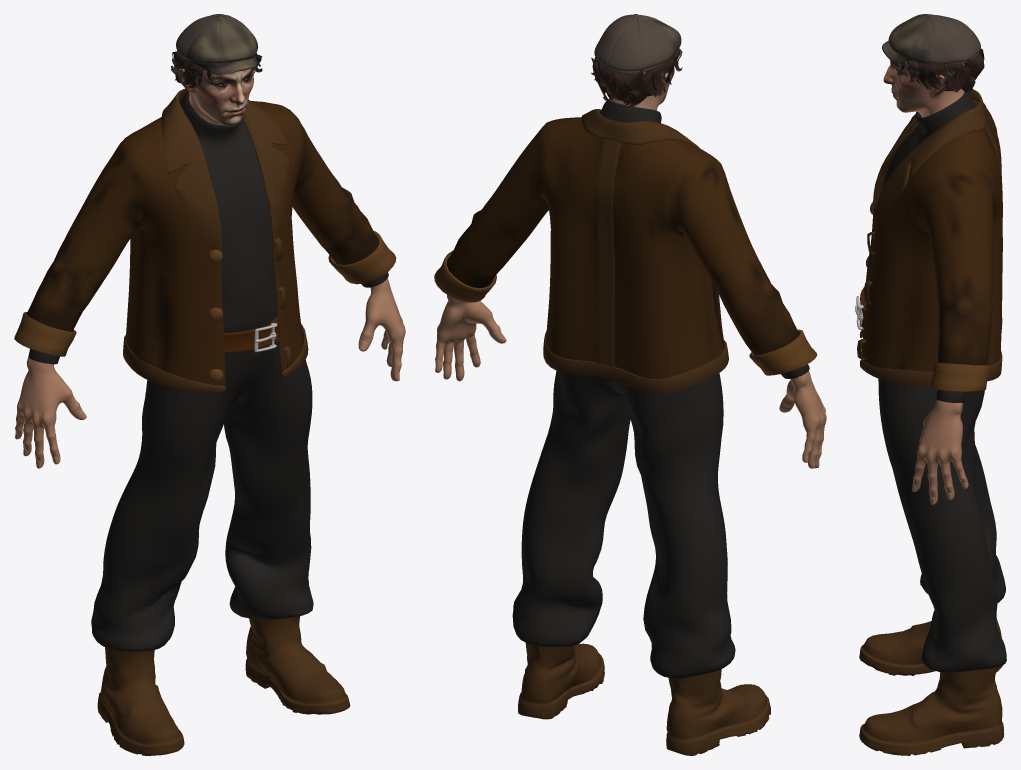
3 renders of one model, left to right at view 1: azimuth 30°, elevation 25°; view 2: azimuth 150°, elevation 25°; view 3: azimuth 270°, elevation 25°, orthographic.
Visible parts, largest first — view 1: Rest, Head; view 2: Rest; view 3: Rest, Head.
Boxes of the visible parts, left/top/right/bottom form: Rest: left=14, top=14, right=405, bottom=755; Head: left=178, top=68, right=253, bottom=126; Rest: left=434, top=14, right=826, bottom=755; Rest: left=855, top=14, right=1006, bottom=755; Head: left=883, top=60, right=964, bottom=117.
Size of the model in its own units: 108 by 189 by 37.63.
